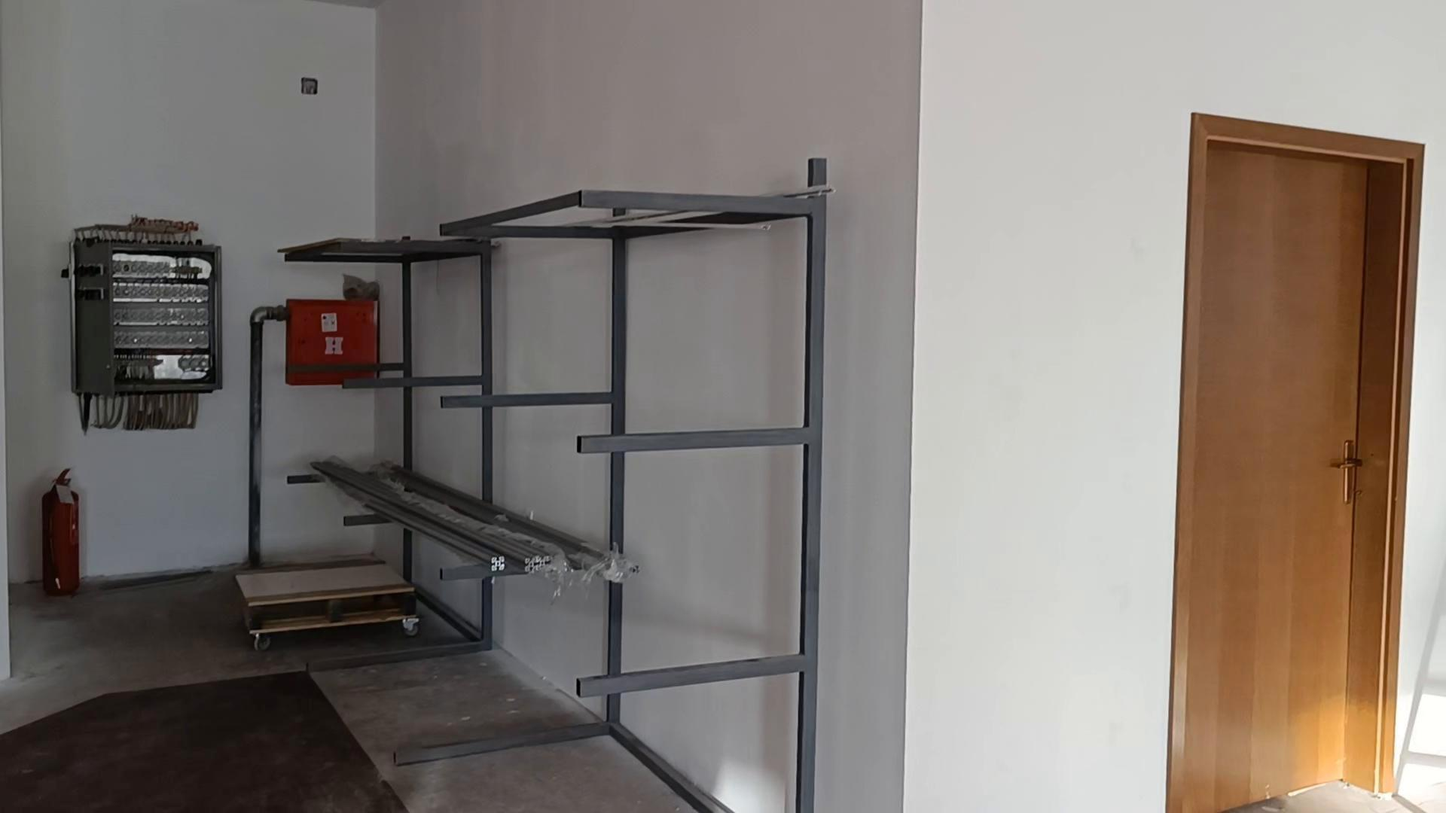floor: (0, 570, 723, 812), (4, 675, 402, 812), (1216, 770, 1445, 812)
wall: (0, 1, 1443, 812), (628, 451, 800, 665), (629, 227, 804, 430), (264, 329, 398, 552), (630, 679, 795, 812), (496, 242, 608, 391)
